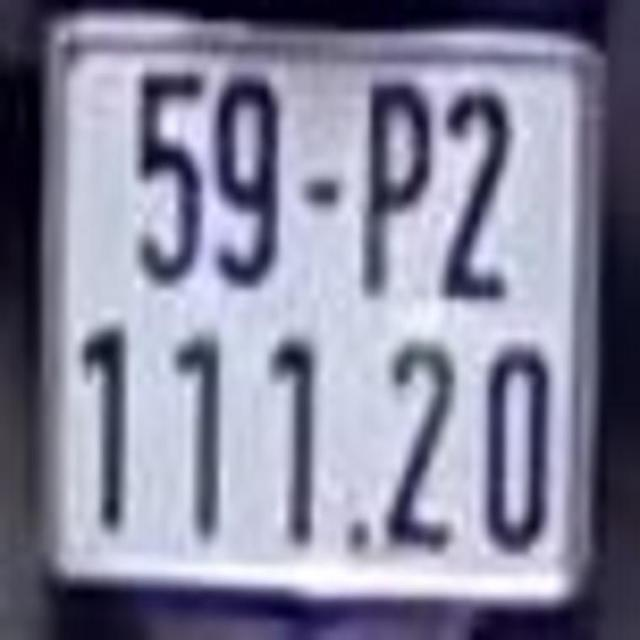0: (478, 343, 549, 546)
1: (171, 337, 232, 546), (261, 334, 318, 548), (76, 324, 135, 527)
2: (388, 348, 461, 548), (443, 88, 509, 299)
5: (139, 73, 202, 274)
9: (210, 74, 281, 279)
P: (364, 83, 432, 303)
